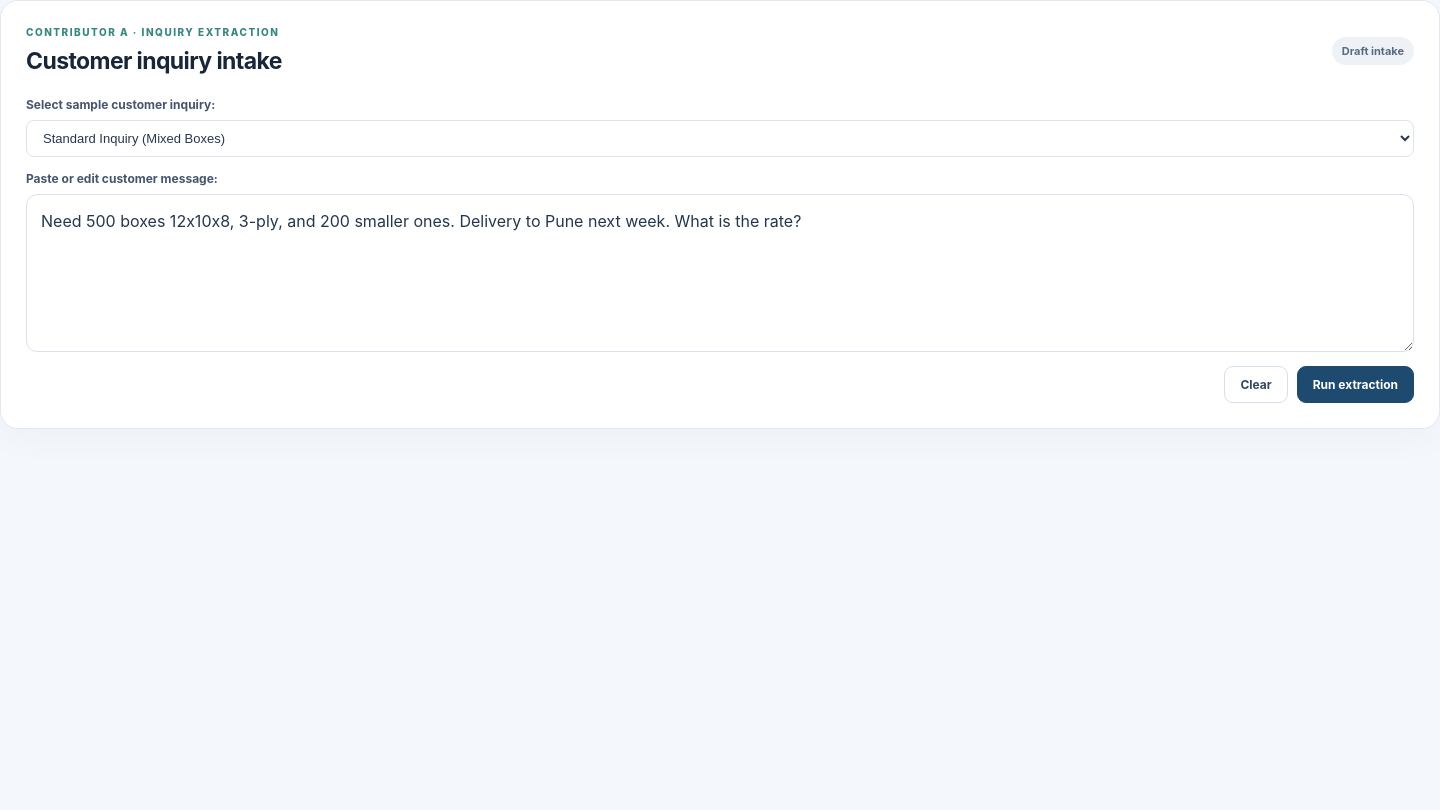
it: runs extraction and displays result
Click the button "Run extraction".
click(1355, 384)  # box 1297,366 -> 1414,403
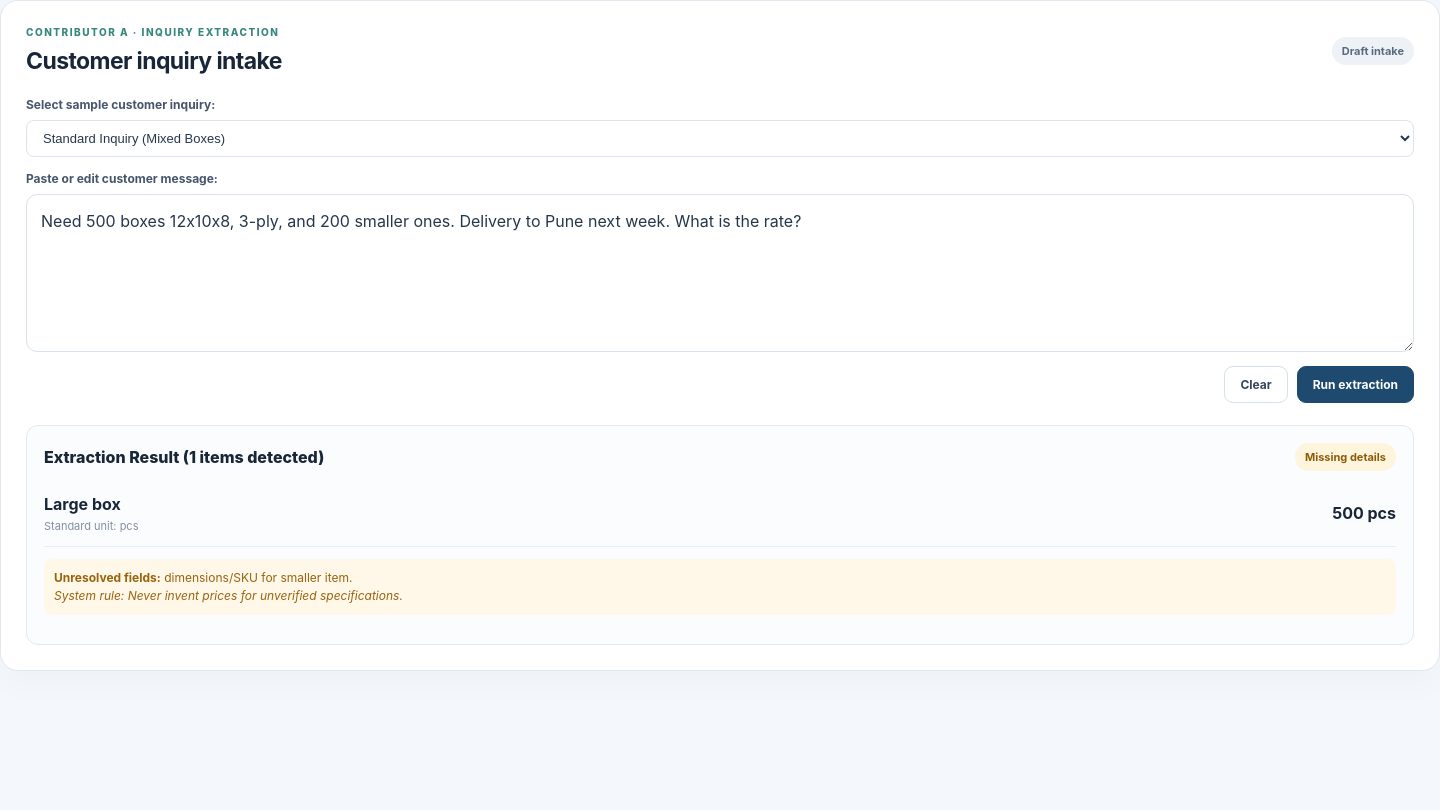
Result: the text "Large box" is shown at 44,494 -> 121,514
Result: the text "500 pcs" is shown at 1332,504 -> 1396,524
Result: the text "Missing details" is shown at 1295,443 -> 1396,471
